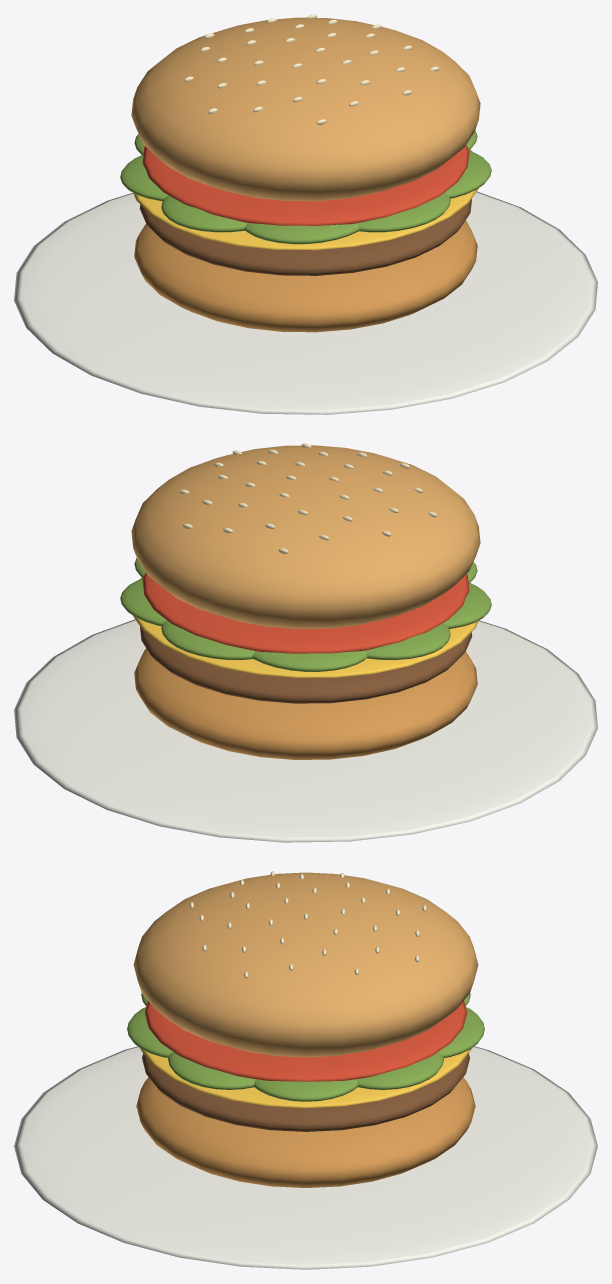
The model's file is burger.glb.
The picture shows the model from 3 angles, top to bottom: view 1: azimuth 30°, elevation 25°; view 2: azimuth 150°, elevation 25°; view 3: azimuth 270°, elevation 25°; orthographic projection.
Size of the model in its own units: 0.21 by 0.0989 by 0.21.
